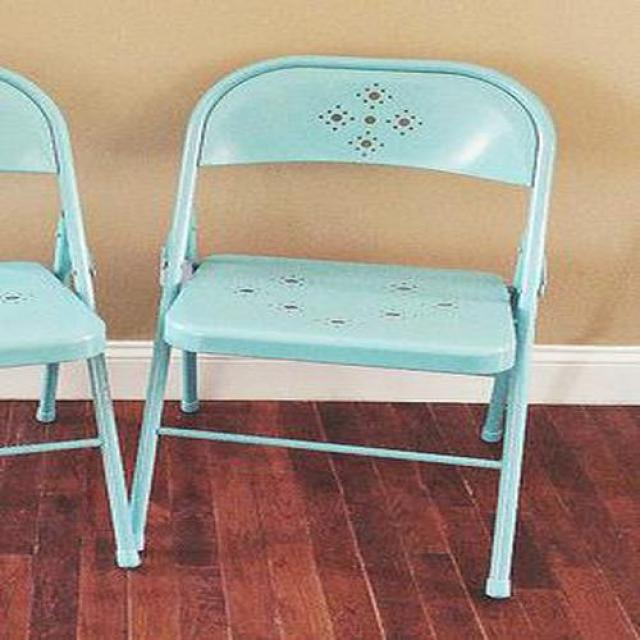chair: (120, 56, 559, 602)
